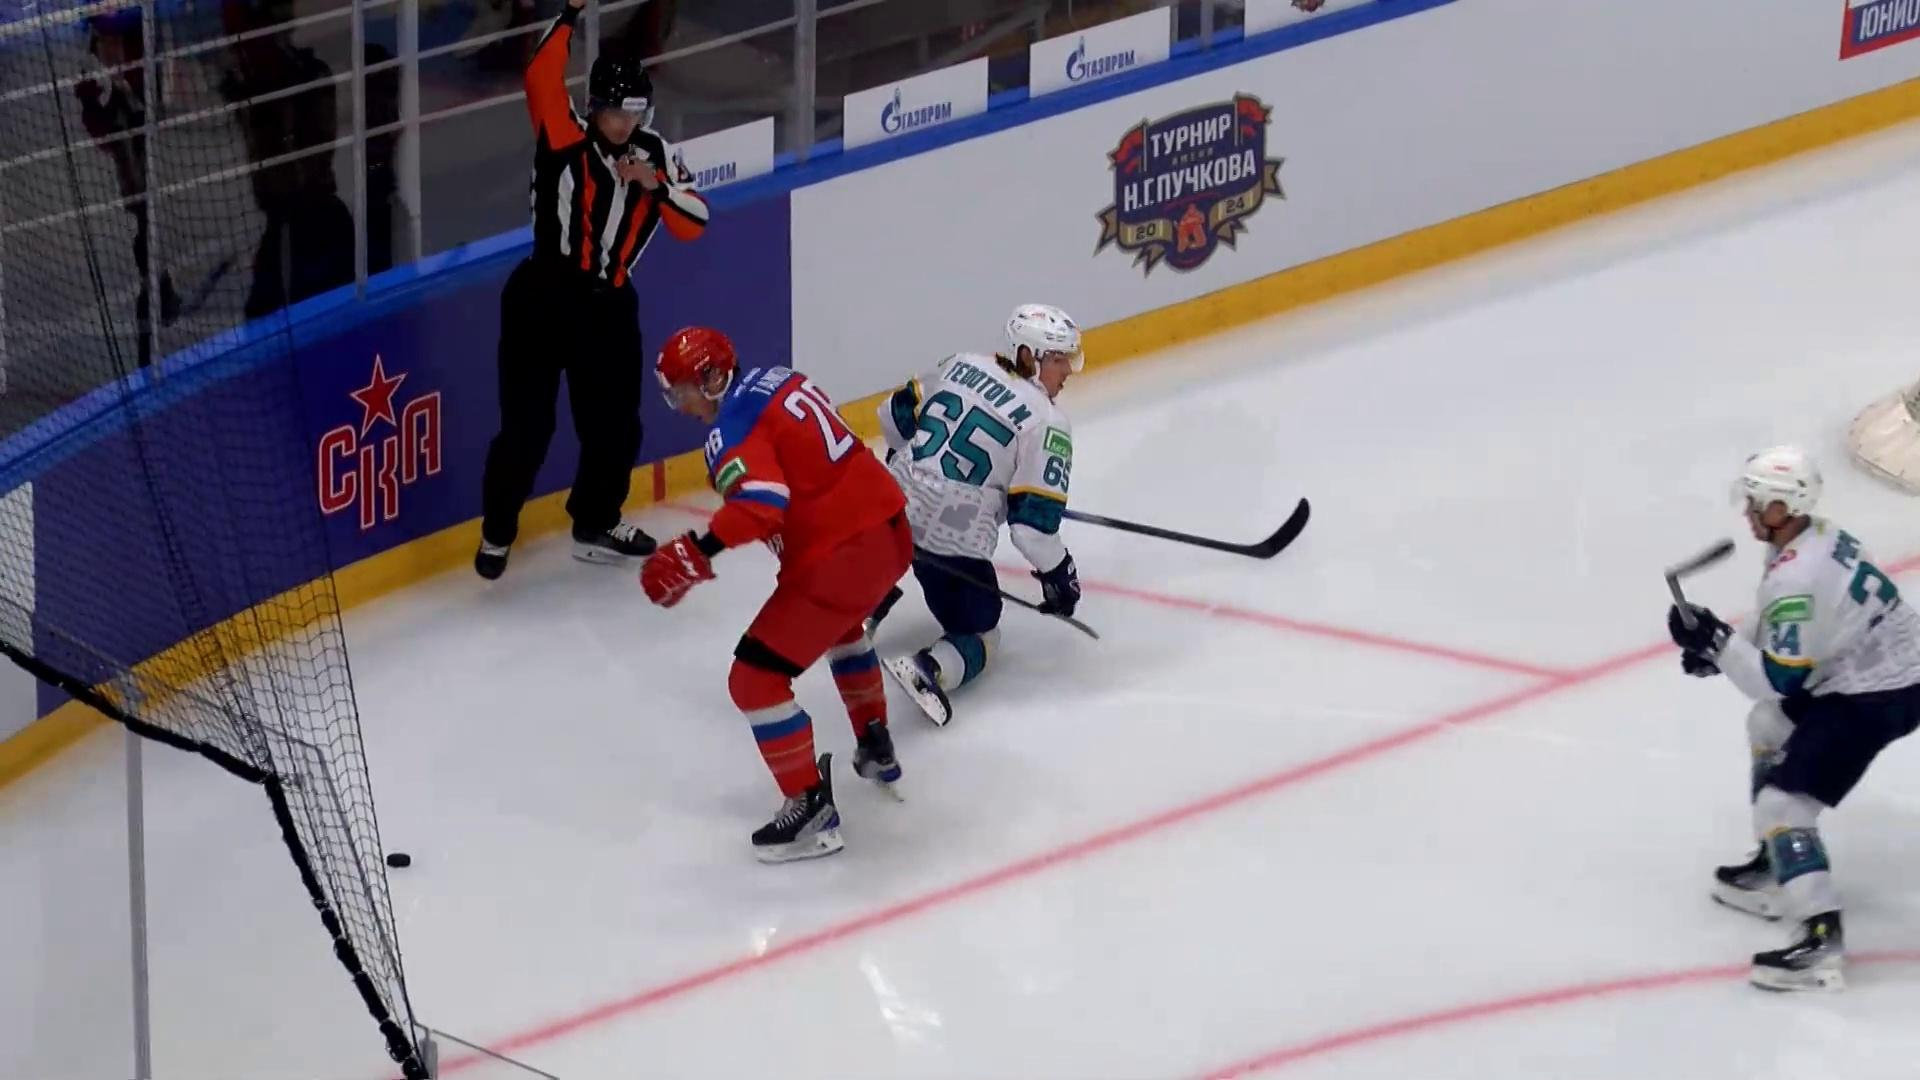ball: (385, 852, 411, 868)
